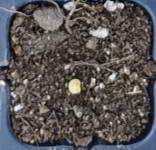pepper seed: (26, 30, 108, 126)
